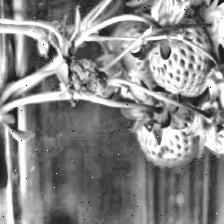Gray Mold: (45, 41, 110, 108)
